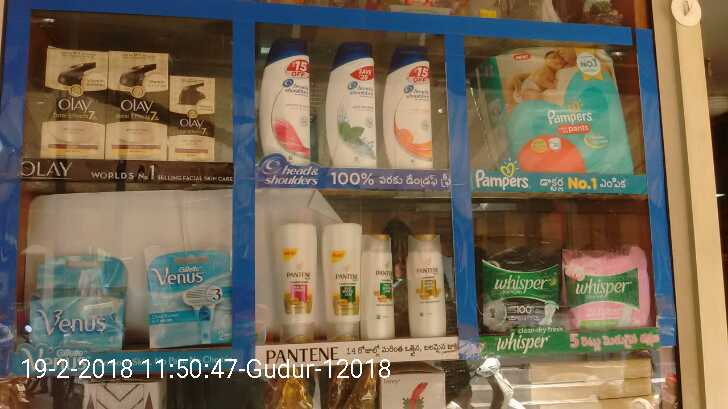venus: (31, 259, 124, 349), (150, 253, 232, 349)
